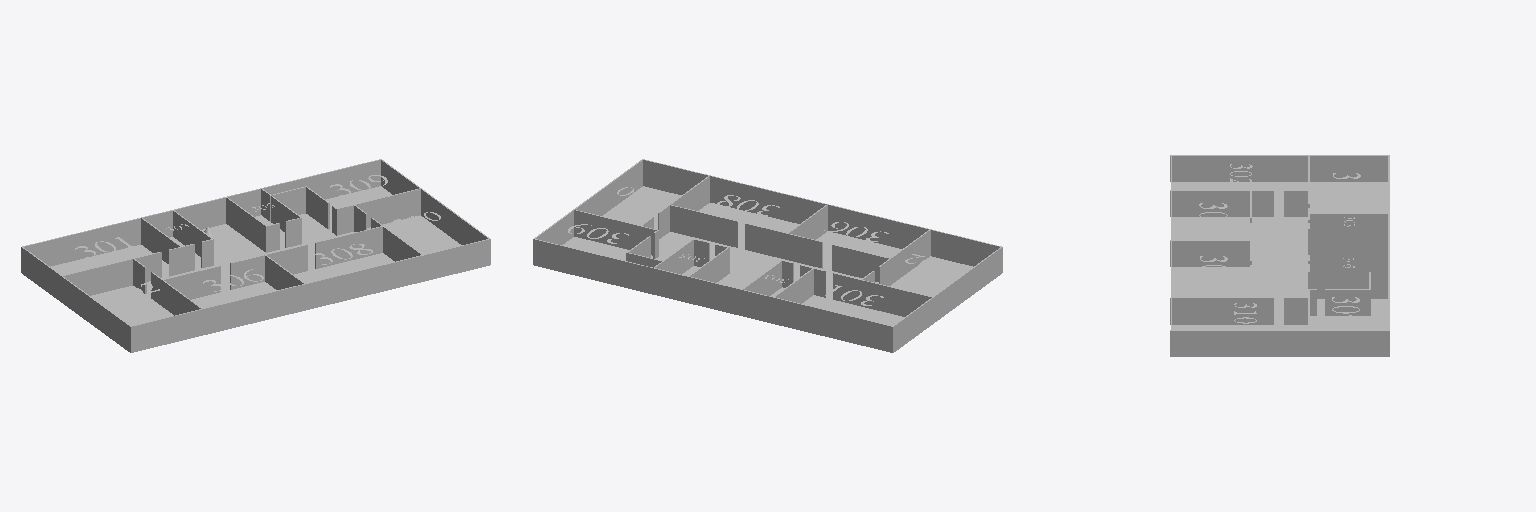
Rendered from wood3.obj.
3 renders of one model, left to right at view 1: azimuth 30°, elevation 25°; view 2: azimuth 150°, elevation 25°; view 3: azimuth 270°, elevation 25°, orthographic.
Parts seen in each view (by area): view 1: pPlane1, pCube13, pCube12, pCube7, pCube11, pCube23, pCube35, pCube16, pCube15, pCube28, pCube3, pCube40 (+8 smaller); view 2: pPlane1, pCube12, pCube13, pCube7, pCube11, pCube23, pCube15, pCube16, pCube35, pCube40, pCube28, pCube31 (+5 smaller); view 3: pPlane1, pCube11, pCube7, pCube40, pCube31, pCube4, pCube9, pCube1, pCube3, pCube24, pCube38, pCube36 (+1 smaller).
Part boxes in pixels (x1,y1,x2,y2): pPlane1: (51,186,460,325); pCube13: (132,239,489,352); pCube12: (22,159,381,266); pCube7: (21,247,131,352); pCube11: (381,160,490,264); pCube23: (63,252,161,295); pCube35: (336,188,421,235); pCube16: (315,226,382,268); pCube15: (230,244,307,289); pCube28: (163,266,220,299); pCube3: (226,197,266,252); pCube40: (151,272,202,335); pPlane1: (562,186,972,325); pCube12: (533,239,893,352); pCube13: (642,159,1001,266); pCube7: (892,247,1002,352); pCube11: (534,160,642,244); pCube23: (833,273,931,316); pCube15: (745,223,822,268); pCube16: (670,205,737,247); pCube35: (574,210,658,256); pCube40: (879,229,930,285); pCube28: (832,244,890,281); pCube31: (658,175,710,238); pPlane1: (1172,182,1387,329); pCube11: (1170,330,1389,356); pCube7: (1170,155,1389,181); pCube40: (1170,190,1273,216); pCube31: (1170,298,1273,324); pCube4: (1308,229,1387,254); pCube9: (1170,240,1249,266); pCube1: (1308,272,1387,298); pCube3: (1310,255,1387,271); pCube24: (1308,213,1387,228); pCube38: (1325,289,1370,315); pCube36: (1284,298,1307,324).
Bounding box in the file's own units: 2864 × 201 × 1508.